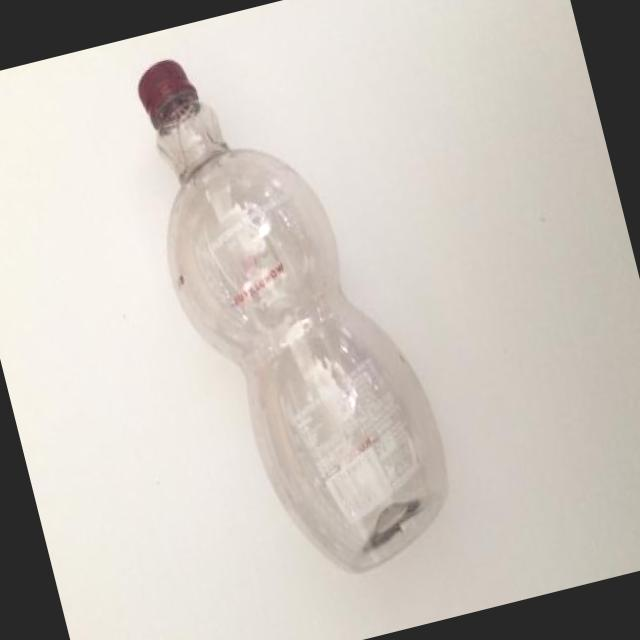Recycle: (119, 14, 470, 602)
